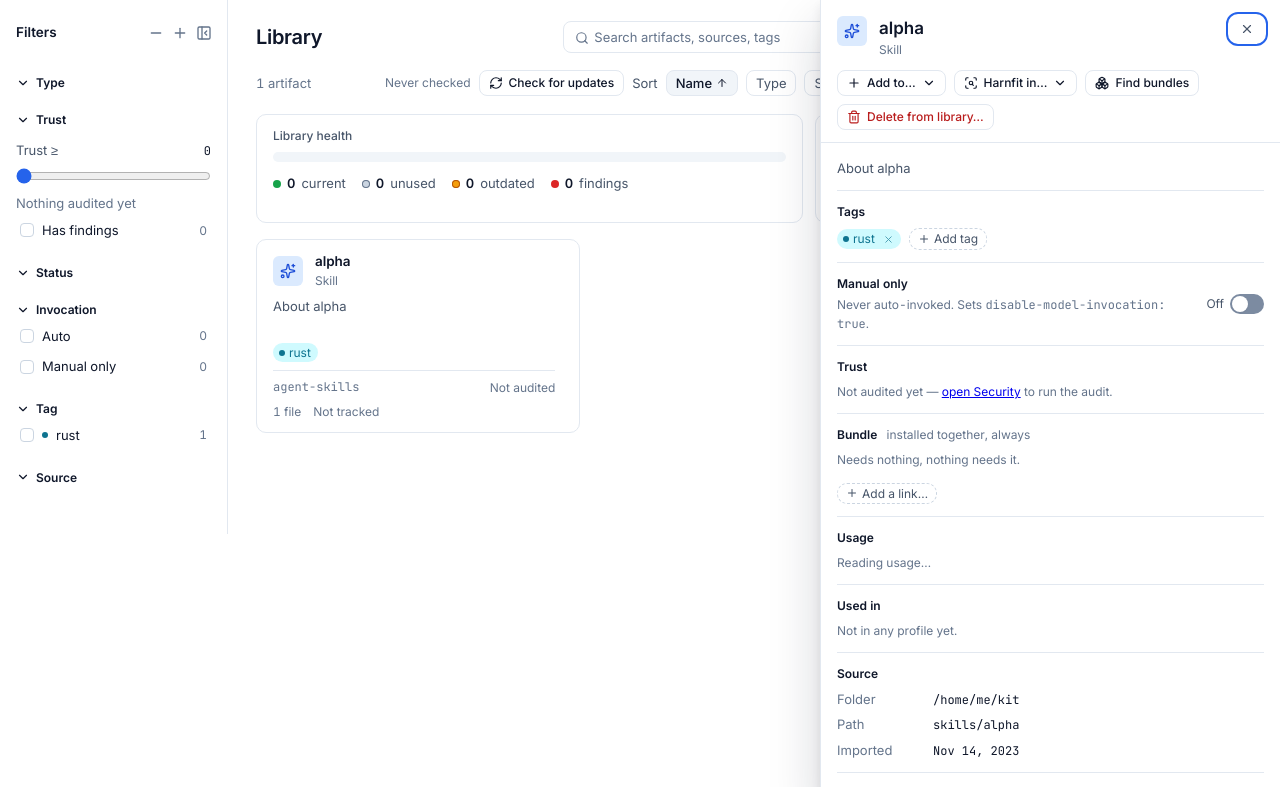
tags in the detail panel › closes on an outside click, and says when there is nothing to add
Click the button "Add tag": (948, 239) [909,228,987,250]
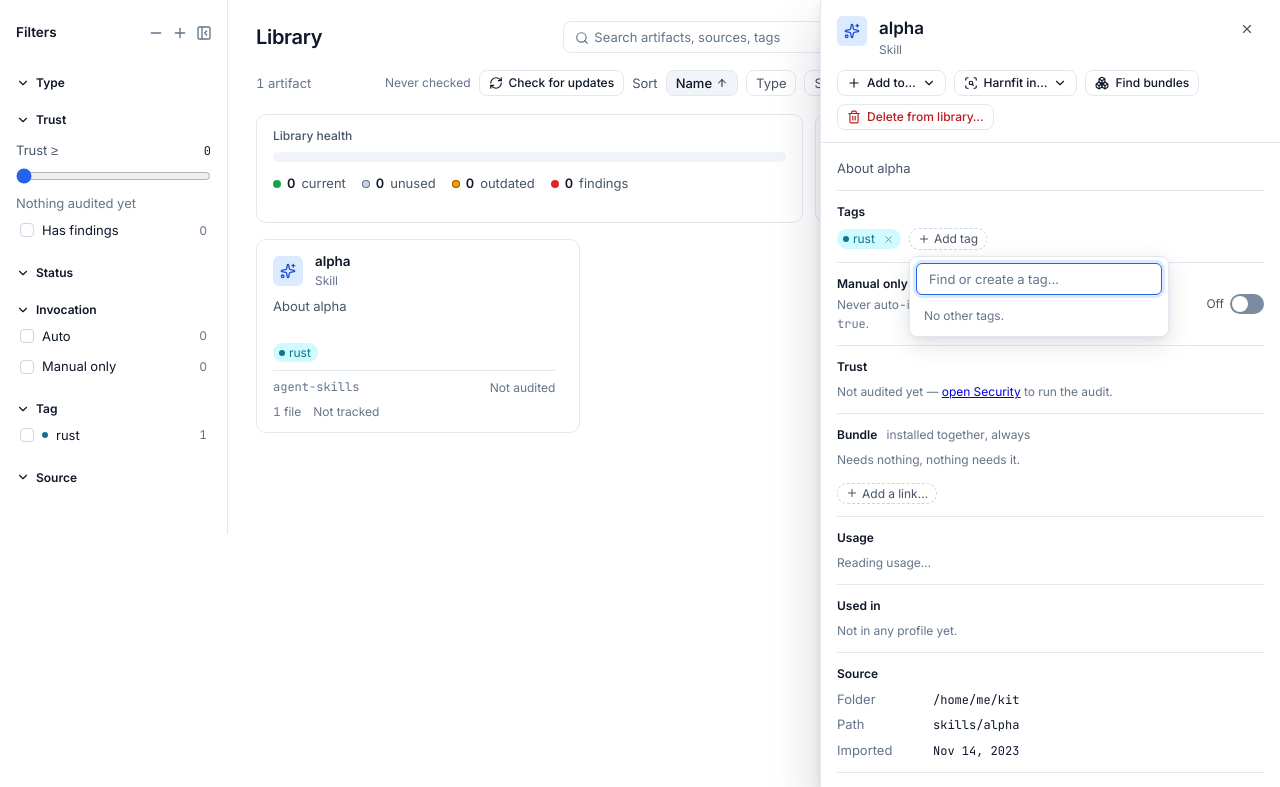
Expected: the text "No other tags." is shown, [924,308,1004,323]
Click the heading "Tags": (851, 211) [837,204,865,219]
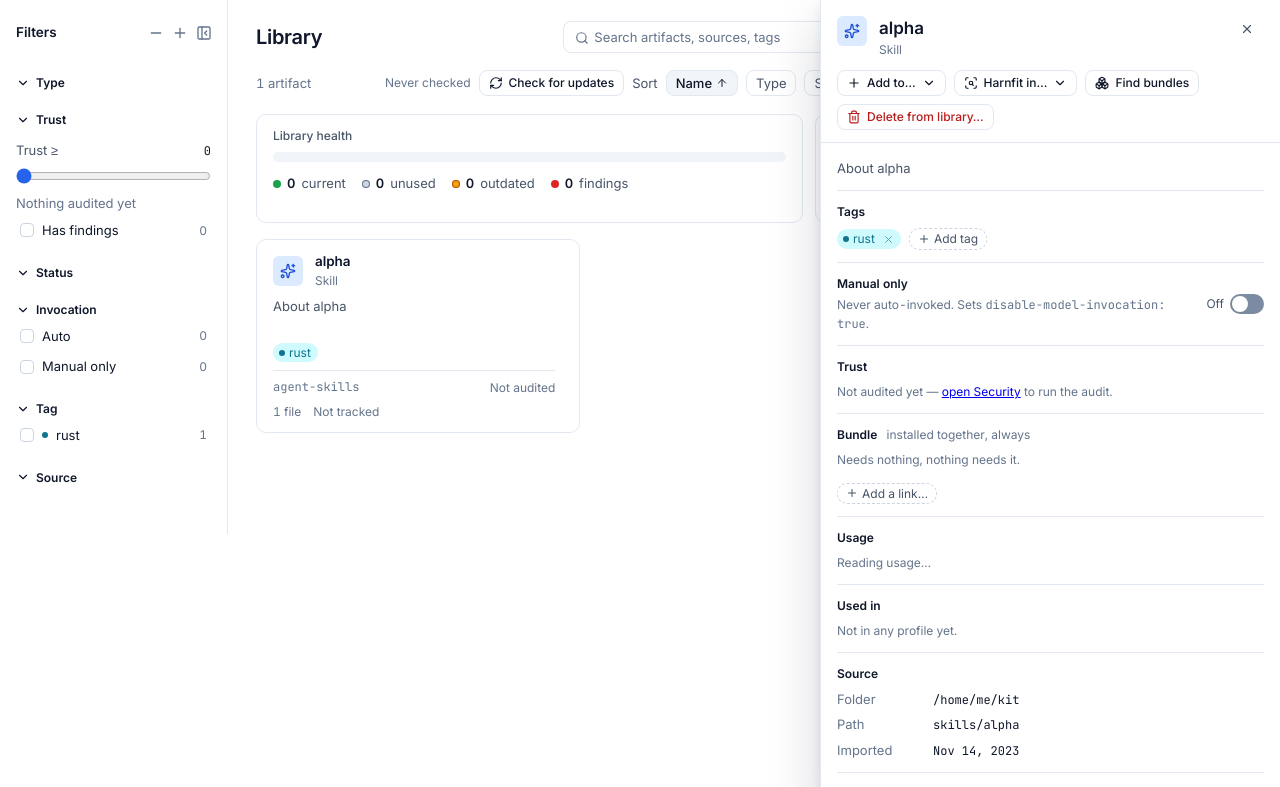
Click the button "Add tag": (948, 239) [909,228,987,250]
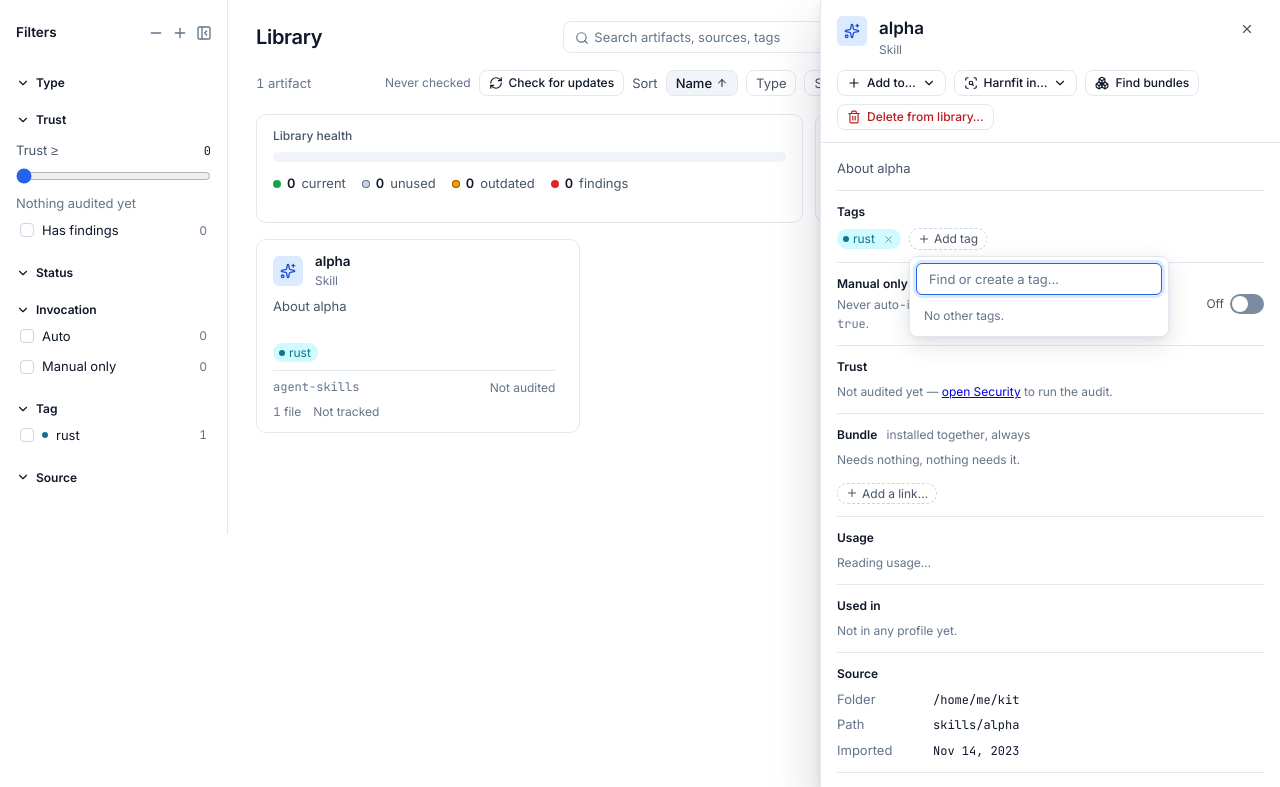
In the dropdown: (1039, 279) [916,263,1162,295], type "rust"
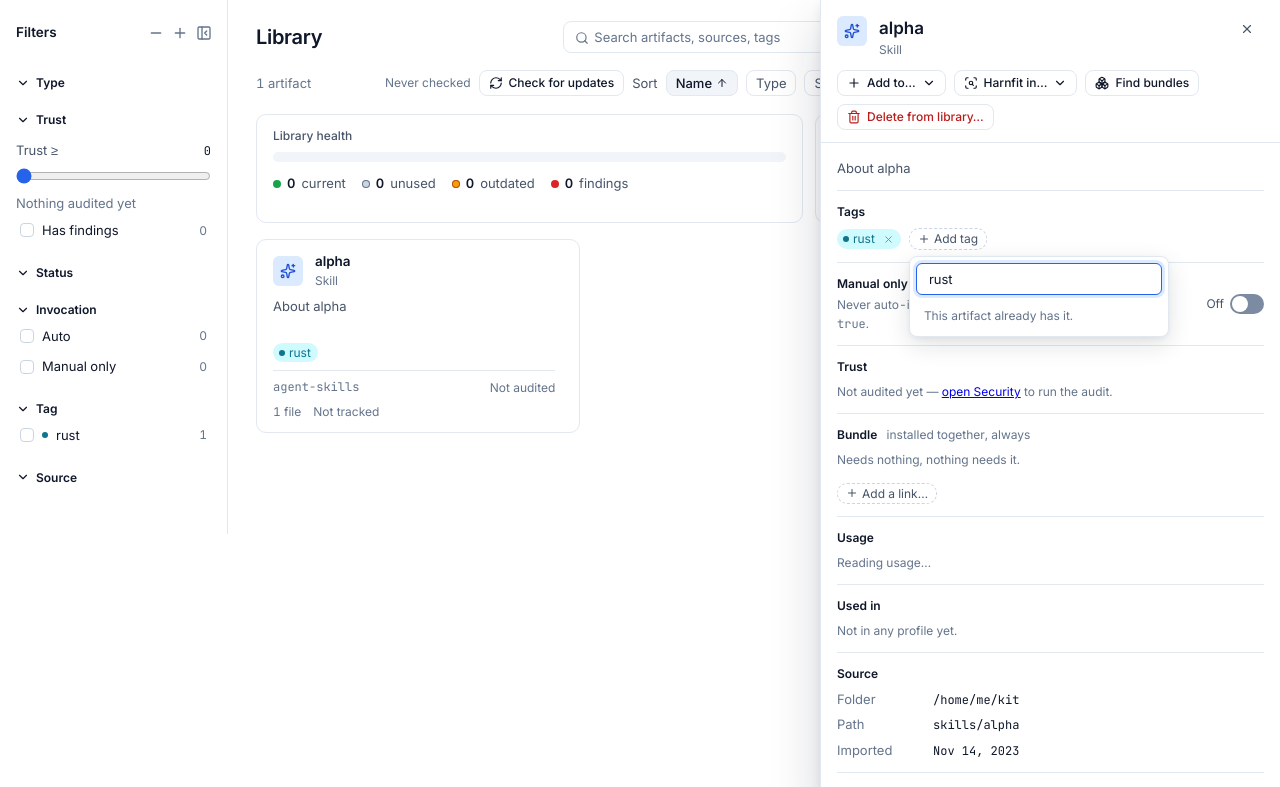
Expected: the text "This artifact already has it." is shown, [924,308,1073,323]
